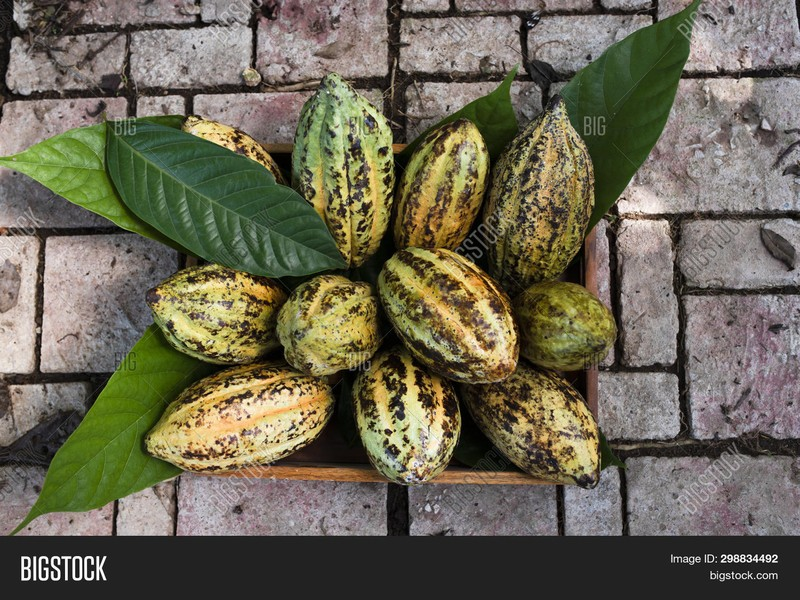Cacaopod: (142, 363, 338, 470), (377, 245, 519, 379)
